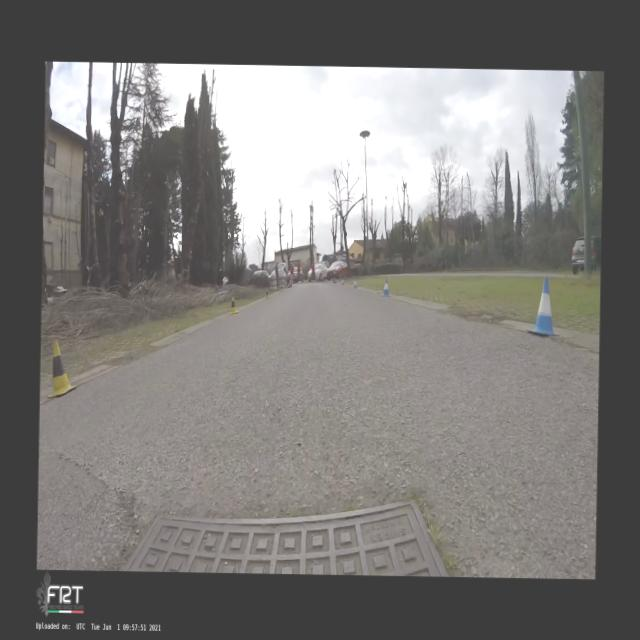blue_cone: (526, 276, 561, 336), (382, 278, 391, 296), (353, 278, 356, 288), (341, 278, 343, 284)
yellow_cone: (46, 342, 77, 398), (228, 296, 238, 314), (266, 288, 270, 298)
